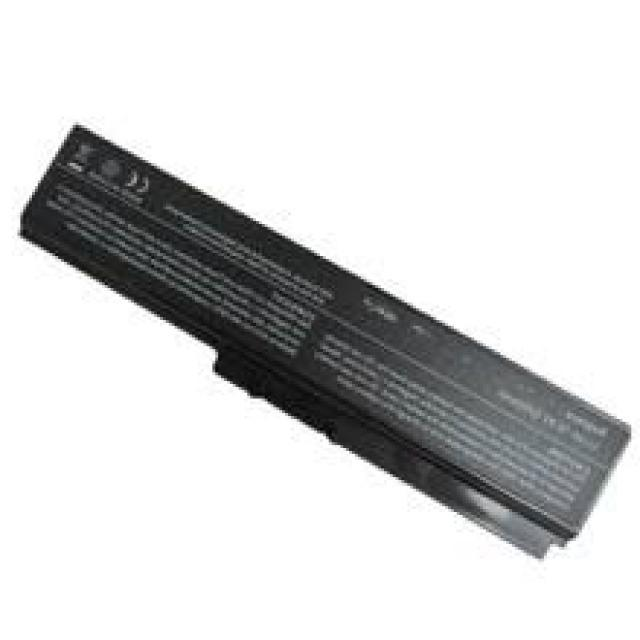battery: (18, 118, 632, 560)
